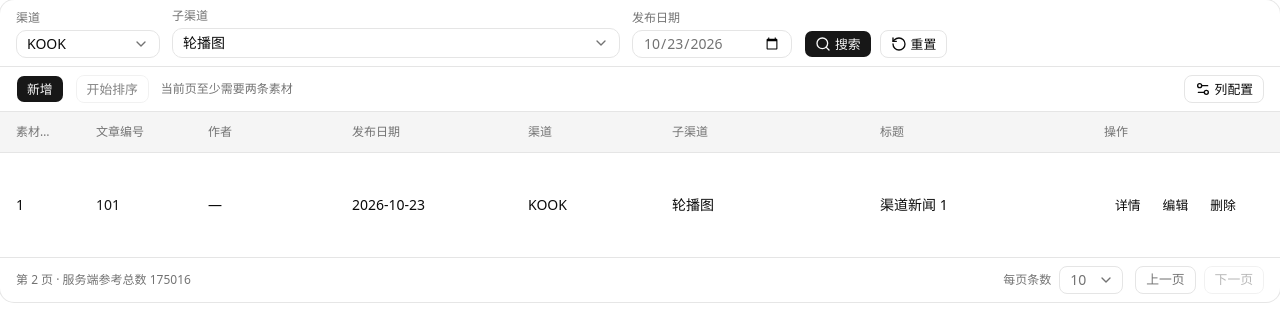
Test: 渠道素材筛选、分页和详情 › 重置清空日期和两级渠道，并保留每页条数
Expected: the button "渠道新闻 1" is shown, [880,195,1168,215]
Click the button "重置" at (913, 44), box [880,30,947,58]
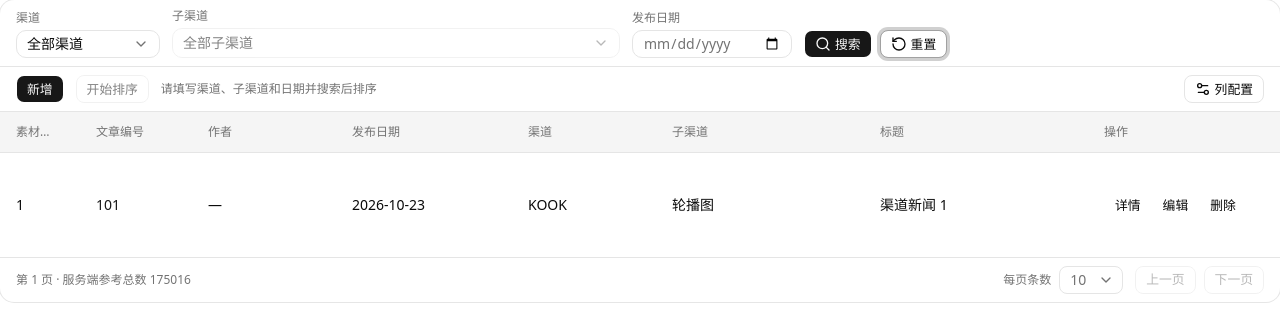
Expected: the date field labelled "发布日期" is empty, [632,30,792,58]
Expected: the dropdown labelled "渠道" reads "全部渠道", [16,30,160,58]
Expected: the dropdown labelled "子渠道" reads "全部子渠道", [172,28,620,58]
